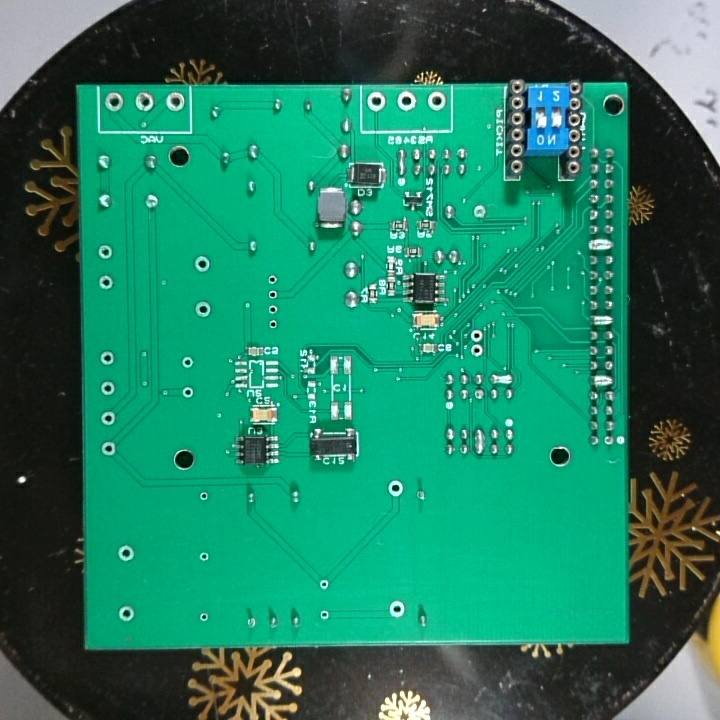F: (363, 90, 389, 117), (424, 88, 447, 118), (163, 88, 187, 116), (102, 90, 127, 116), (394, 89, 419, 113), (133, 89, 156, 115), (116, 601, 138, 626), (96, 349, 119, 372), (115, 542, 137, 566), (97, 438, 119, 461), (97, 377, 119, 400), (192, 252, 213, 276), (142, 189, 162, 214), (411, 483, 430, 509), (95, 240, 116, 263), (471, 200, 492, 222), (384, 477, 403, 501), (97, 409, 118, 430), (387, 598, 406, 621), (193, 300, 214, 320), (97, 272, 118, 292), (467, 341, 487, 361), (180, 352, 198, 373), (196, 488, 213, 509), (243, 612, 259, 634), (468, 325, 486, 344), (472, 385, 488, 406), (196, 549, 213, 566), (196, 609, 212, 626), (317, 577, 332, 595), (601, 433, 617, 449), (264, 287, 280, 303), (266, 301, 281, 318), (264, 316, 281, 331), (181, 384, 195, 402), (265, 270, 279, 288), (318, 608, 331, 623)
P: (587, 236, 614, 254), (589, 374, 618, 390), (472, 426, 486, 459), (590, 312, 614, 331), (489, 371, 515, 388), (395, 146, 408, 177)
